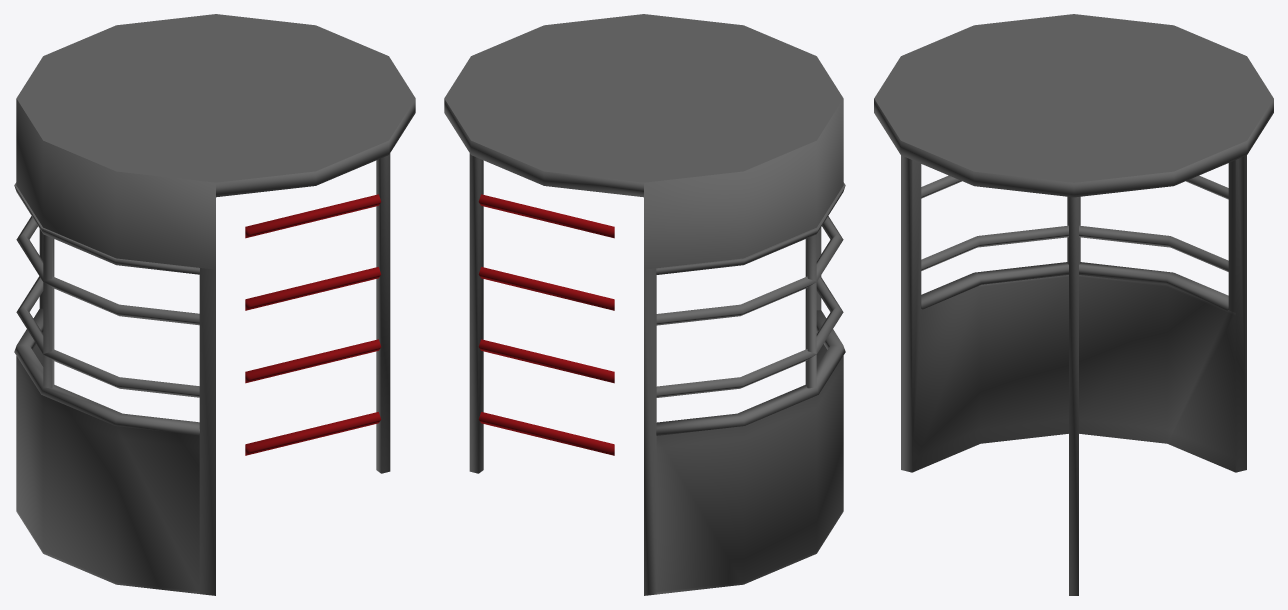
The model's file is SW_ENV_Turnstile_Cage.fbx.
3 views of the same model, side by side, from view 1: azimuth 30°, elevation 25°; view 2: azimuth 150°, elevation 25°; view 3: azimuth 270°, elevation 25° (orthographic).
Visible parts, largest first — view 1: SW_ENV_Turnstile_Cage; view 2: SW_ENV_Turnstile_Cage; view 3: SW_ENV_Turnstile_Cage.
Boxes of the visible parts, bbox=[...] form: SW_ENV_Turnstile_Cage: bbox=[14, 14, 415, 595]; SW_ENV_Turnstile_Cage: bbox=[444, 14, 845, 595]; SW_ENV_Turnstile_Cage: bbox=[874, 14, 1273, 595].
Bounding box in the file's own units: 2.51 × 2.85 × 2.5.
